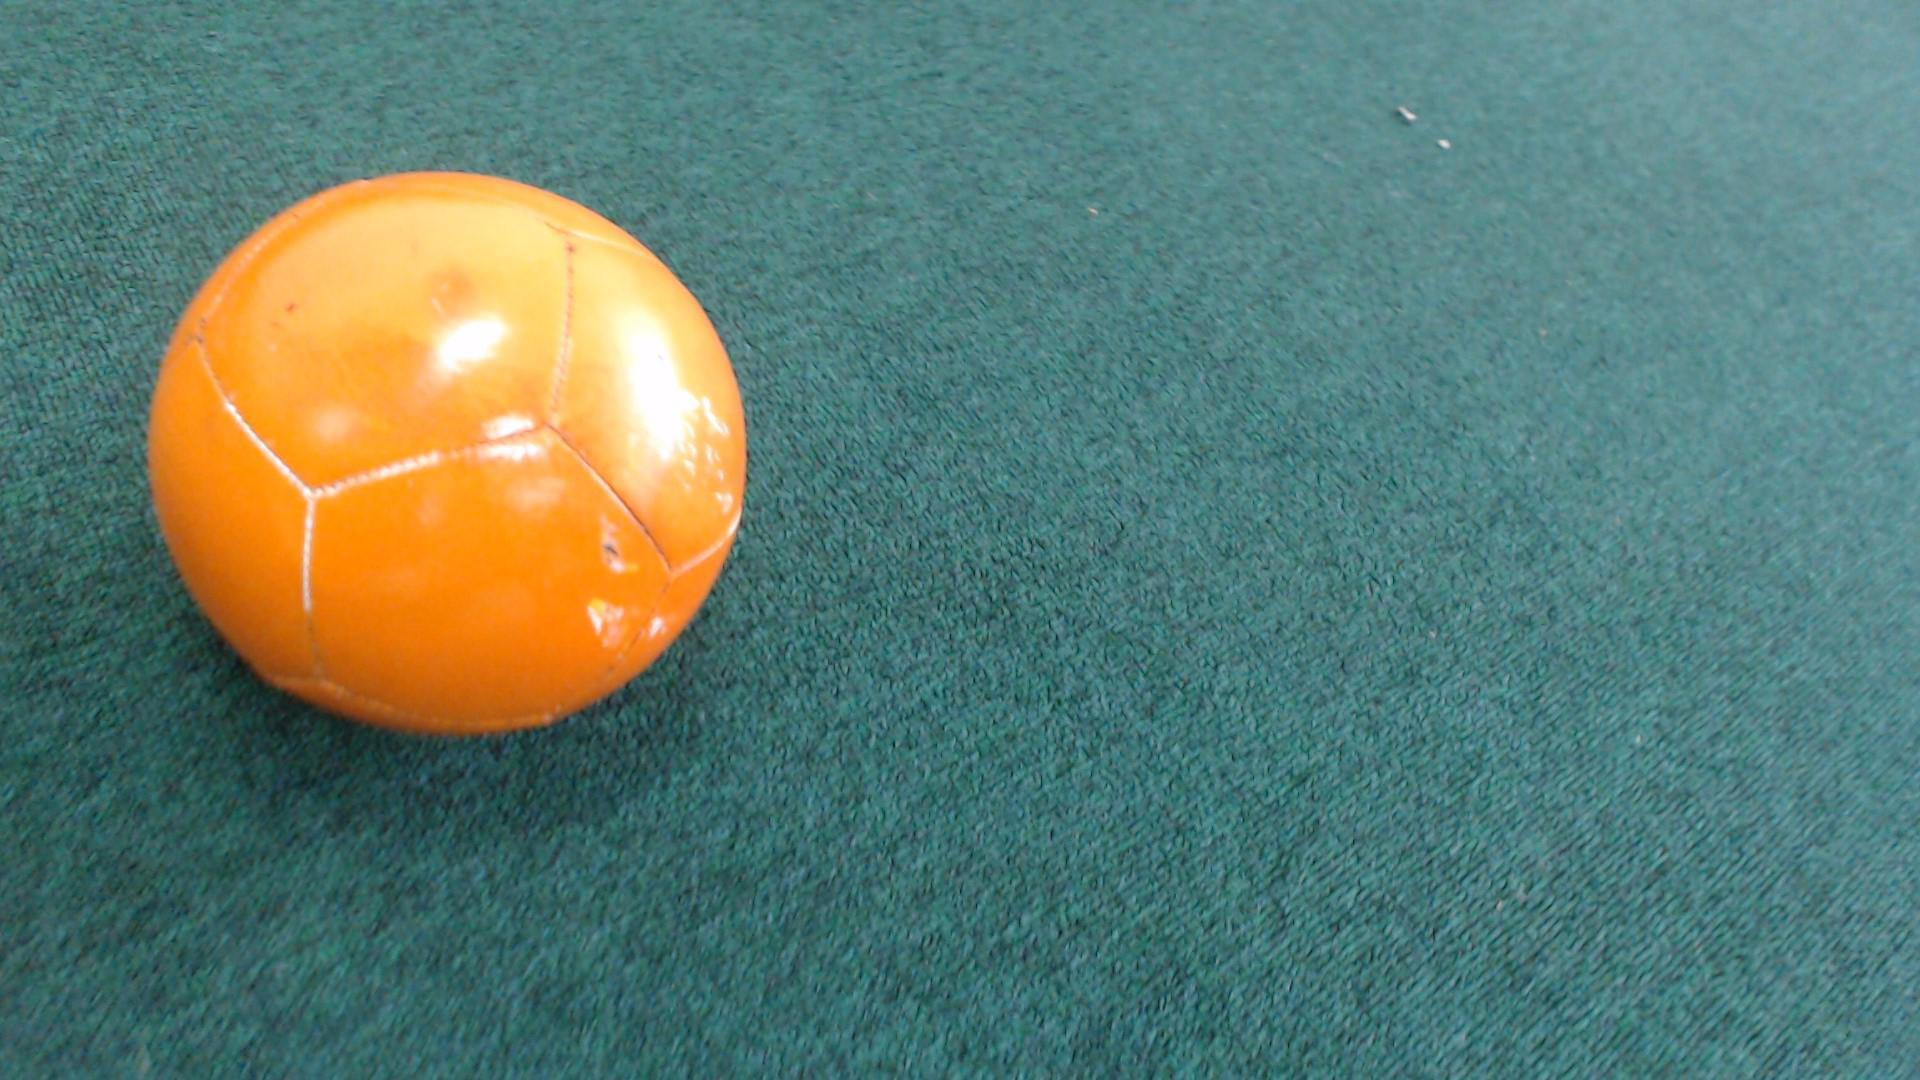bola: (112, 145, 790, 764)
